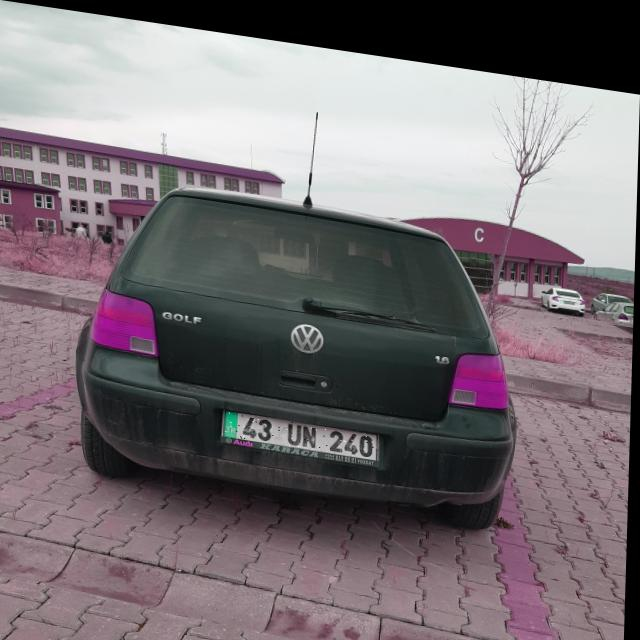license_plate: (228, 405, 380, 448)
